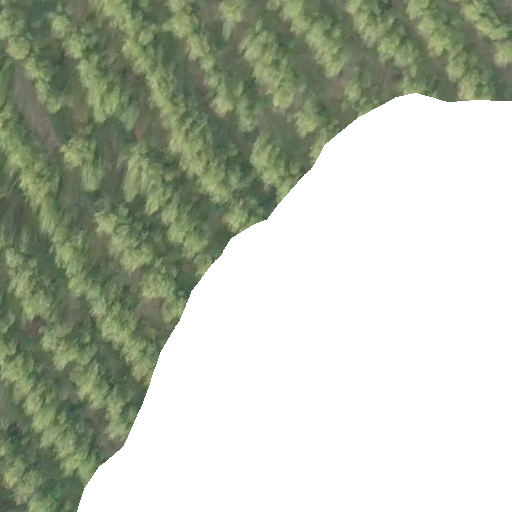eucalipto: (62, 128, 111, 191)
